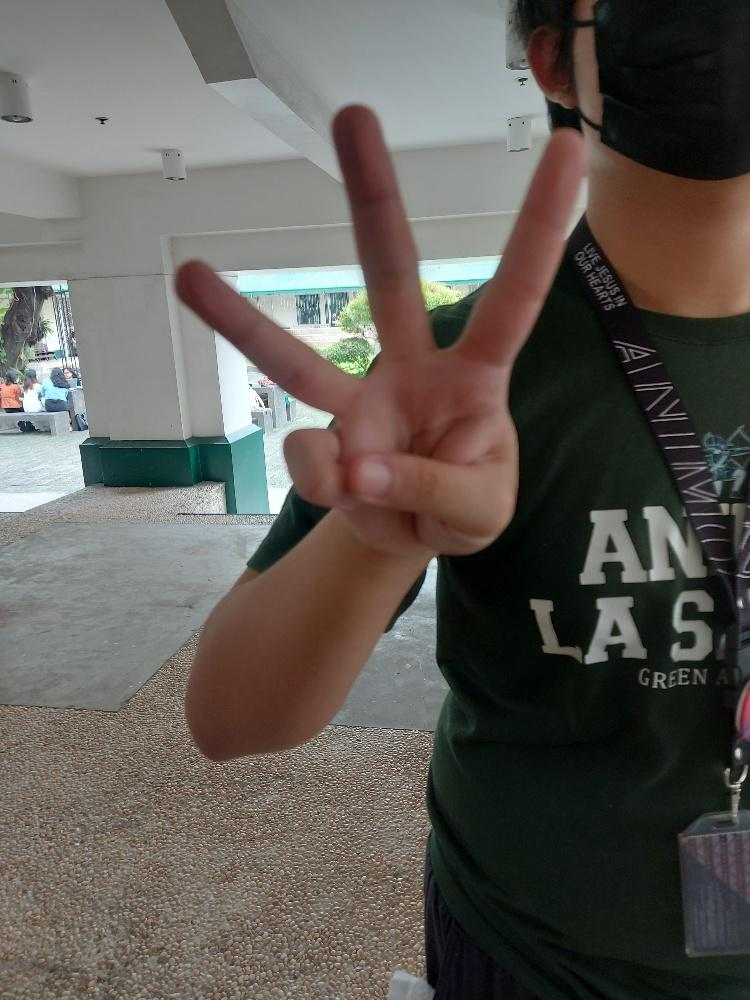w: (167, 100, 587, 559)
